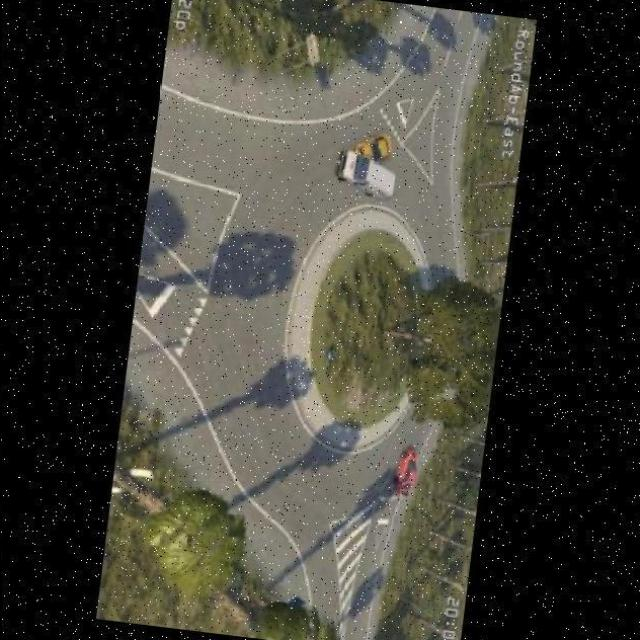accident: (339, 126, 393, 180)
